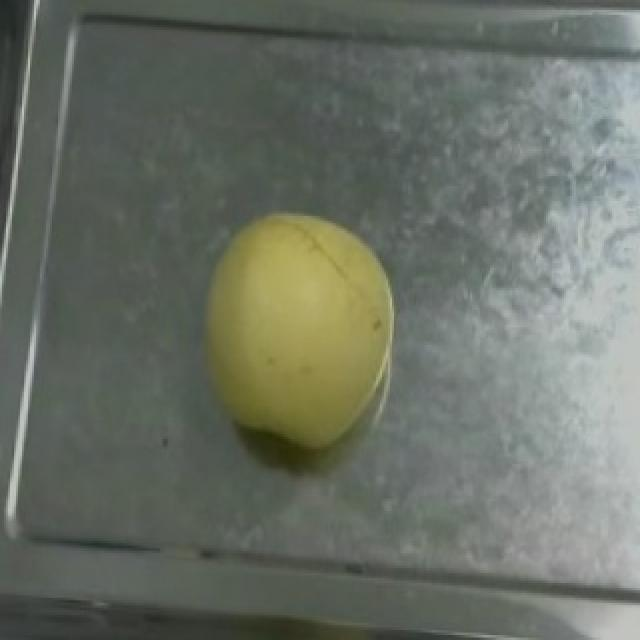Fruit: (182, 193, 410, 459)
